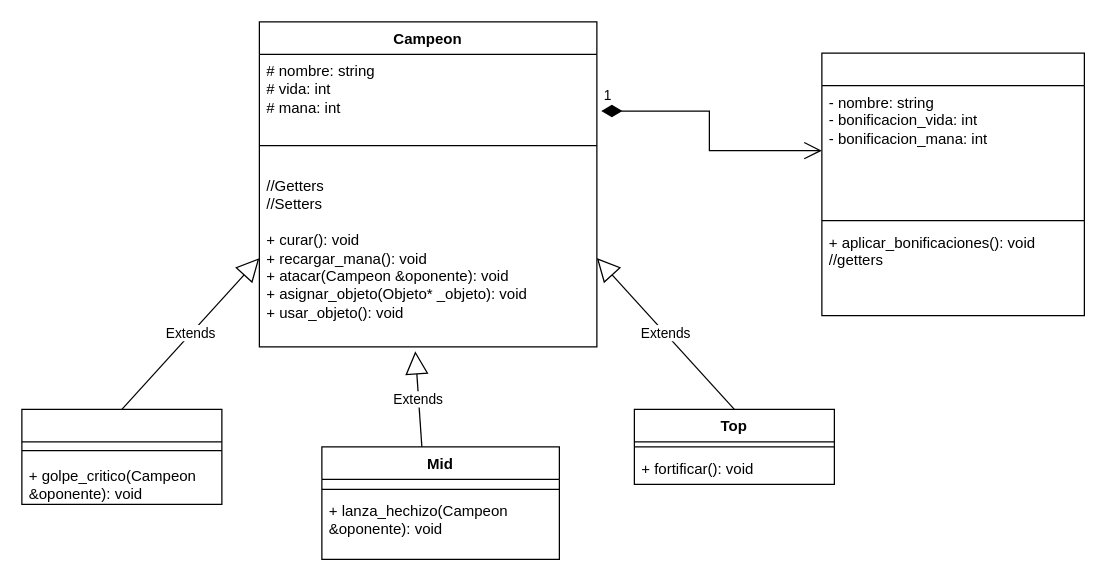
The diagram is 1106 pixels wide and 585 high, and some of its shapes have lost their labels. The shapes that lost their labels are listed below. From the top down, each one's box as (x1, y1, x2, y2) in pixels, then its label:
(821, 52, 1084, 316): Objeto
(21, 408, 222, 504): Adc
